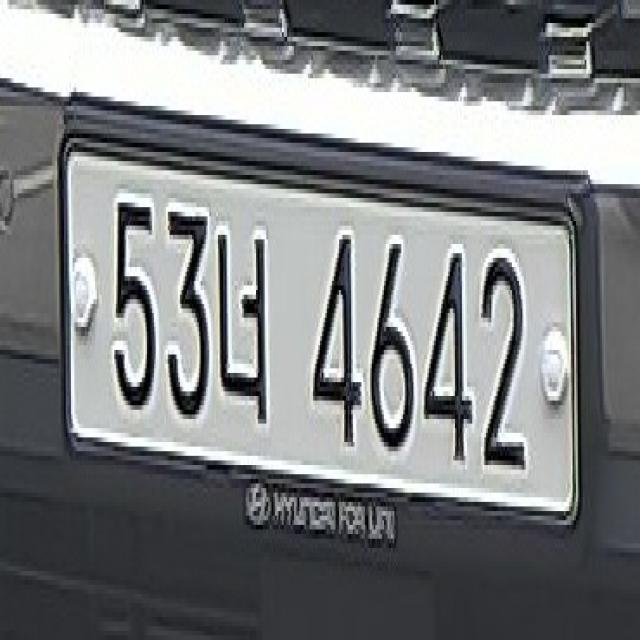2: (472, 248, 533, 478)
3: (158, 175, 216, 424)
4: (311, 221, 365, 456), (424, 226, 472, 474)
5: (102, 184, 161, 424)
6: (367, 226, 417, 470)
license_plate: (50, 138, 590, 534)
neo: (209, 194, 277, 438)
